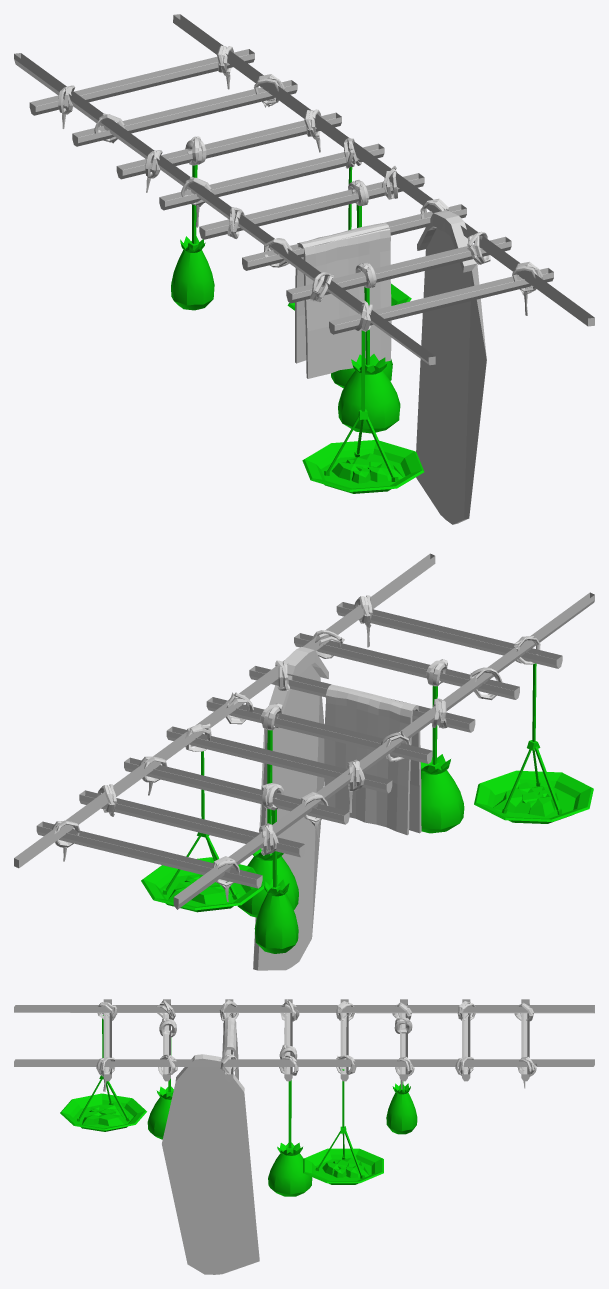
Rendered from EA03_Prop_Crate_Under_Ceiling_01b.fbx.
3 views of the same model, one above another, from view 1: azimuth 30°, elevation 25°; view 2: azimuth 150°, elevation 25°; view 3: azimuth 270°, elevation 25° (orthographic). The views are drawn at different scales.
Parts seen in each view (by area): view 1: EA03_Prop_Crate_Under_Ceiling_01b_LOD0; view 2: EA03_Prop_Crate_Under_Ceiling_01b_LOD0; view 3: EA03_Prop_Crate_Under_Ceiling_01b_LOD0.
Part boxes in pixels (<box>): EA03_Prop_Crate_Under_Ceiling_01b_LOD0: <box>14,14,594,524</box>; EA03_Prop_Crate_Under_Ceiling_01b_LOD0: <box>14,553,594,970</box>; EA03_Prop_Crate_Under_Ceiling_01b_LOD0: <box>14,999,594,1274</box>.
Size of what is drawn, in the model's own units: 1.07 by 1.22 by 2.93.
